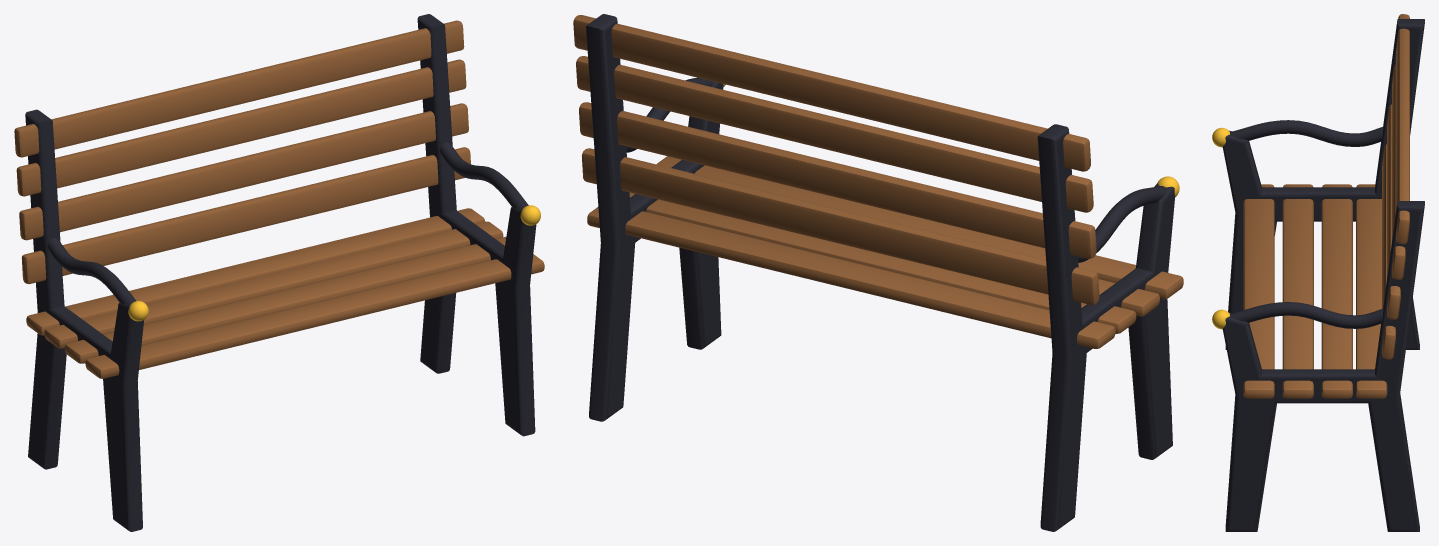
File: PropBench.fbx
The picture shows the model from 3 angles, left to right: view 1: azimuth 30°, elevation 25°; view 2: azimuth 150°, elevation 25°; view 3: azimuth 270°, elevation 25°; orthographic projection. The views are drawn at different scales.
Visible parts, largest first — view 1: Wood, Iron, Gold; view 2: Wood, Iron; view 3: Iron, Wood, Gold.
Boxes of the visible parts, x1,y1,x2,y2 form: Wood: (14,20,544,378); Iron: (25,14,536,531); Gold: (128,205,540,321); Wood: (573,15,1183,348); Iron: (586,14,1175,531); Iron: (1222,19,1424,531); Wood: (1243,14,1409,398); Gold: (1212,127,1229,329).
Bounding box in the file's own units: 500 × 368 × 218.
